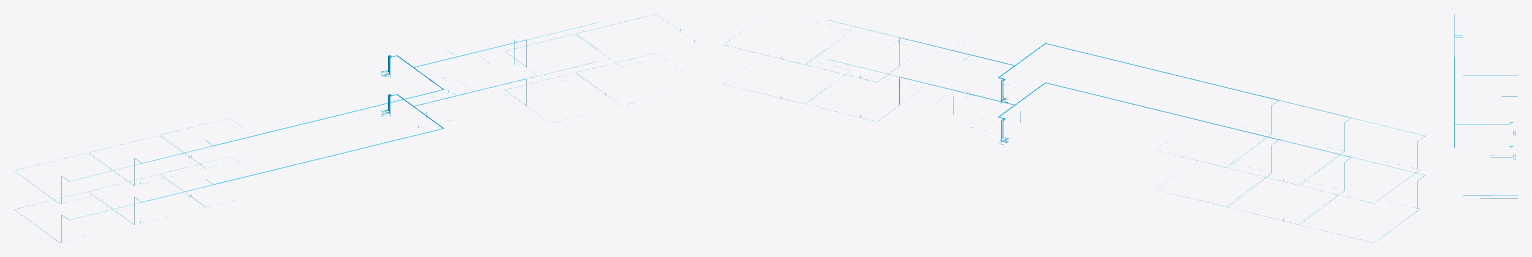
File: CABLEADO.fbx
The picture shows the model from 3 angles, left to right: view 1: azimuth 30°, elevation 25°; view 2: azimuth 150°, elevation 25°; view 3: azimuth 270°, elevation 25°; orthographic projection. The views are drawn at different scales.
Visible parts, largest first — view 1: no part large enough to name; view 2: no part large enough to name; view 3: G_19_1, G_7_1, G_14.
Part boxes in pixels (x1=…): G_19_1: x1=1454, y1=14, x2=1454, y2=124; G_7_1: x1=1454, y1=57, x2=1454, y2=123; G_14: x1=1463, y1=75, x2=1517, y2=75.
Bounding box in the file's own units: 65.73 × 6.52 × 9.38.
